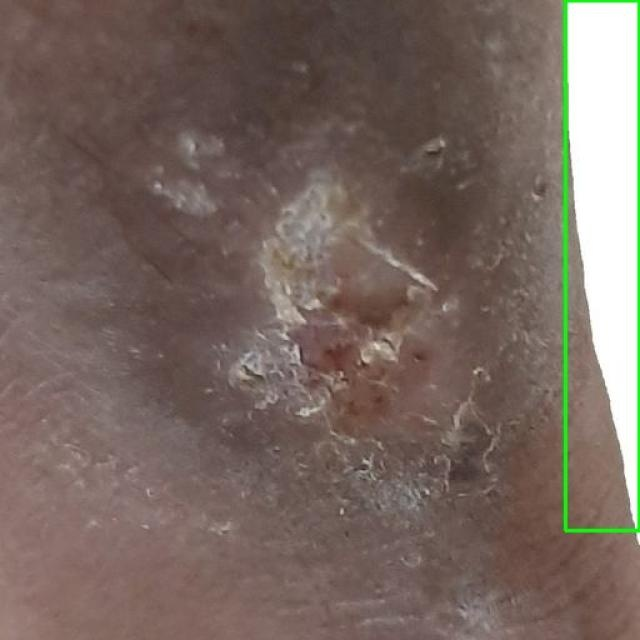Eczema: (565, 0, 639, 531)
